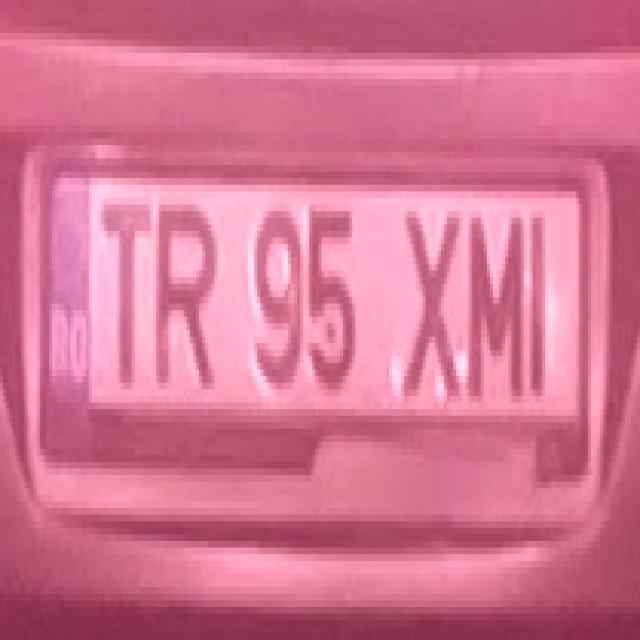Autre: (39, 159, 589, 451)
